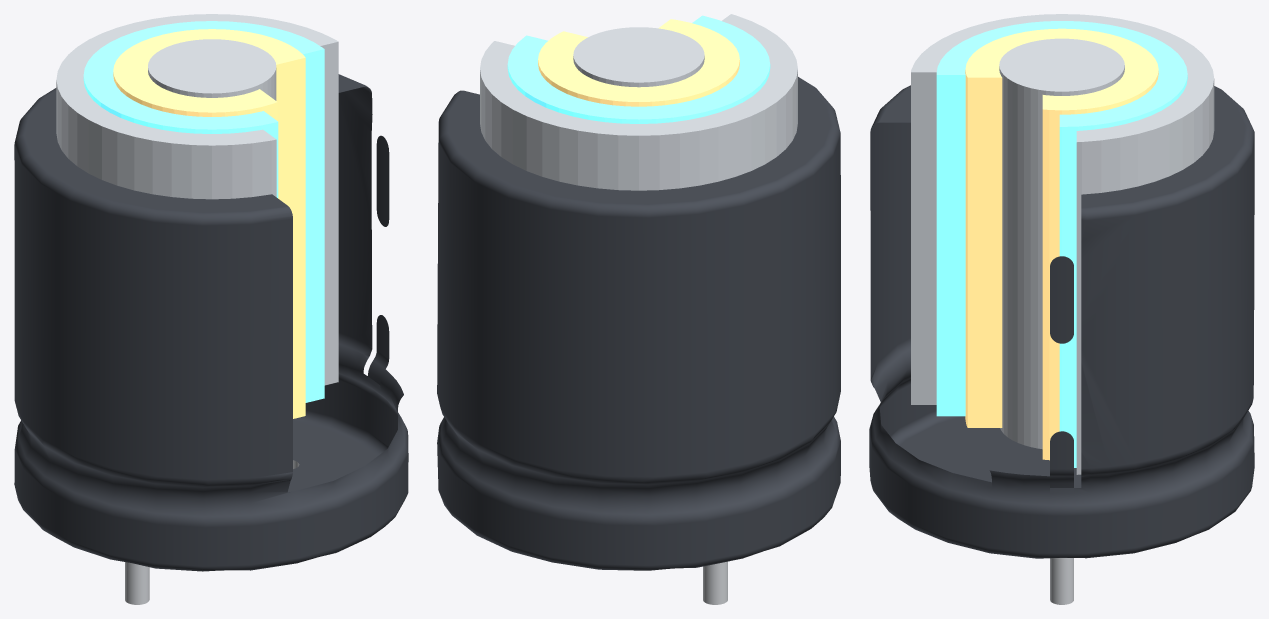
Rendered from cap_autopsia.glb.
3 renders of one model, left to right at view 1: azimuth 30°, elevation 25°; view 2: azimuth 150°, elevation 25°; view 3: azimuth 270°, elevation 25°, orthographic. The views are drawn at different scales.
Visible parts, largest first — view 1: Encapsulado_2, Rollo_Anodo_Al, Encapsulado_3, Capa_Dielectrico_Al2O3, Rollo_Papel_Electrolito, Nucleo_Catodo_Al, Carcasa_Corte, Pines_Metal; view 2: Encapsulado_2, Rollo_Anodo_Al, Capa_Dielectrico_Al2O3, Rollo_Papel_Electrolito, Nucleo_Catodo_Al, Pines_Metal, Encapsulado_3; view 3: Encapsulado_2, Encapsulado_3, Rollo_Papel_Electrolito, Rollo_Anodo_Al, Capa_Dielectrico_Al2O3, Nucleo_Catodo_Al, Carcasa_Corte, Pines_Metal, Carcasa_Base.
Part boxes in pixels (x1,y1,x2,y2): Encapsulado_2: [14, 88, 408, 571]; Rollo_Anodo_Al: [56, 14, 338, 385]; Encapsulado_3: [306, 74, 405, 473]; Capa_Dielectrico_Al2O3: [83, 21, 324, 402]; Rollo_Papel_Electrolito: [113, 29, 305, 418]; Nucleo_Catodo_Al: [148, 39, 276, 100]; Carcasa_Corte: [368, 135, 389, 384]; Pines_Metal: [125, 460, 299, 604]; Encapsulado_2: [437, 77, 840, 570]; Rollo_Anodo_Al: [480, 14, 797, 190]; Capa_Dielectrico_Al2O3: [507, 15, 770, 123]; Rollo_Papel_Electrolito: [538, 19, 739, 106]; Nucleo_Catodo_Al: [573, 27, 704, 87]; Pines_Metal: [703, 561, 727, 604]; Encapsulado_3: [441, 90, 479, 421]; Encapsulado_2: [869, 85, 1254, 553]; Encapsulado_3: [988, 190, 1135, 558]; Rollo_Papel_Electrolito: [965, 28, 1158, 460]; Rollo_Anodo_Al: [911, 14, 1214, 474]; Capa_Dielectrico_Al2O3: [936, 21, 1187, 467]; Nucleo_Catodo_Al: [999, 38, 1124, 449]; Carcasa_Corte: [1050, 256, 1073, 487]; Pines_Metal: [1050, 558, 1073, 604]; Carcasa_Base: [1050, 488, 1073, 518].
Size of the model in its own units: 8 by 11.5 by 7.98.
